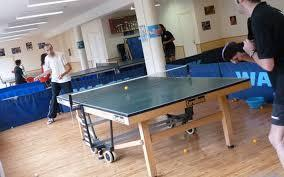ball_pingpong: (124, 86, 129, 90), (183, 148, 187, 153)
